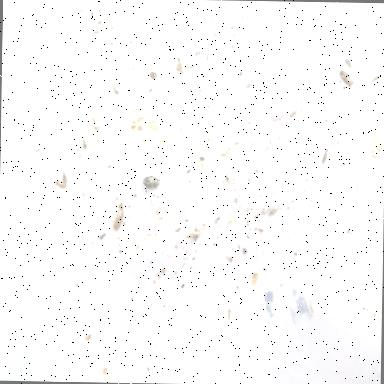pbw: (113, 202, 124, 230), (370, 133, 384, 151), (340, 70, 354, 88), (91, 110, 102, 124), (52, 179, 65, 188), (344, 57, 352, 68), (82, 138, 88, 150), (268, 208, 277, 216), (112, 84, 119, 94), (62, 171, 66, 187), (243, 247, 248, 255), (228, 308, 231, 321), (94, 126, 100, 132), (148, 88, 153, 92), (95, 125, 100, 128)
